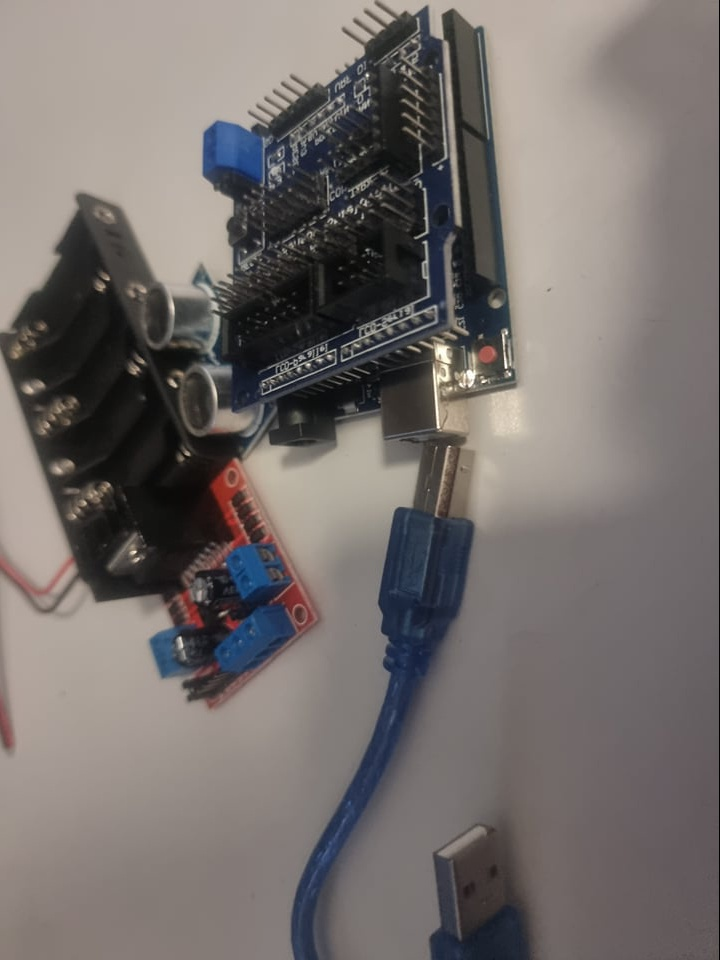5V EXPANSION: (202, 6, 456, 393)
BATTERY BOX: (4, 188, 206, 604)
MOTOR: (88, 467, 321, 716)
SENSOR: (139, 259, 272, 453)
UNO R3: (277, 343, 536, 450)
